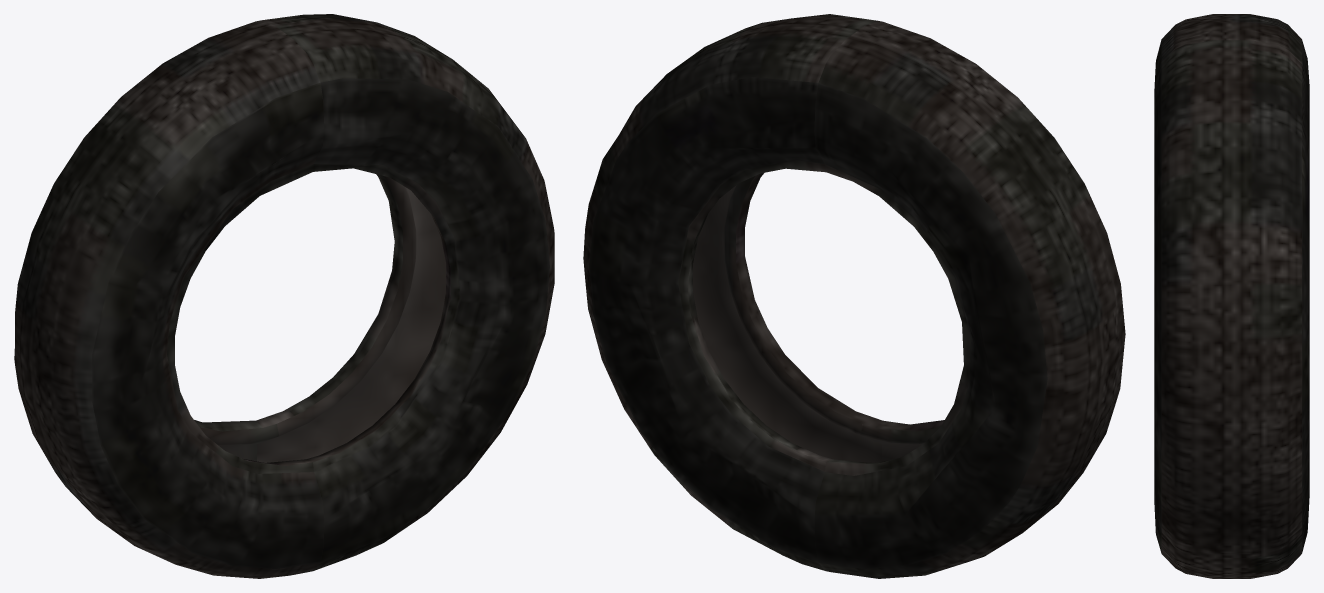
Rendered from tyre-old.lite.ff4a408c.glb.
3 renders of one model, left to right at view 1: azimuth 30°, elevation 25°; view 2: azimuth 150°, elevation 25°; view 3: azimuth 270°, elevation 25°, orthographic. The views are drawn at different scales.
Visible parts, largest first — view 1: model; view 2: model; view 3: model.
Boxes of the visible parts, <box> form: model: <box>14,14,554,578</box>; model: <box>583,14,1125,578</box>; model: <box>1154,14,1309,578</box>.
Size of the model in its own units: 0.6 by 0.6 by 0.165.
Materials: 1 (1 with a texture image).
